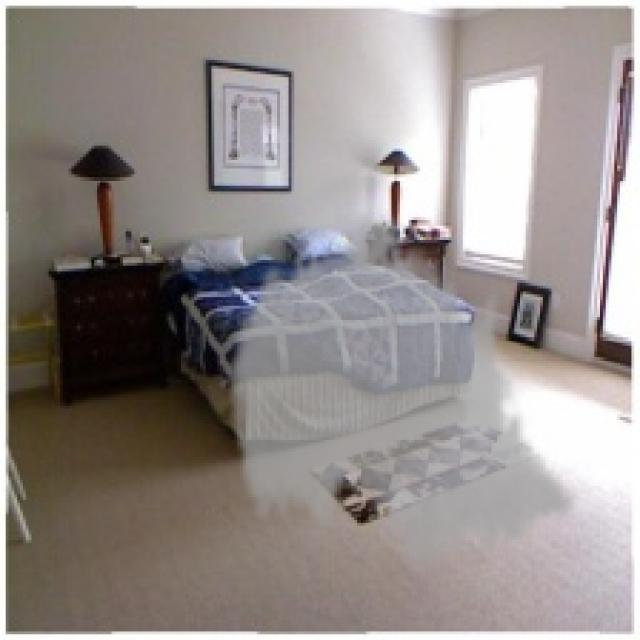smoke: (223, 203, 577, 583)
